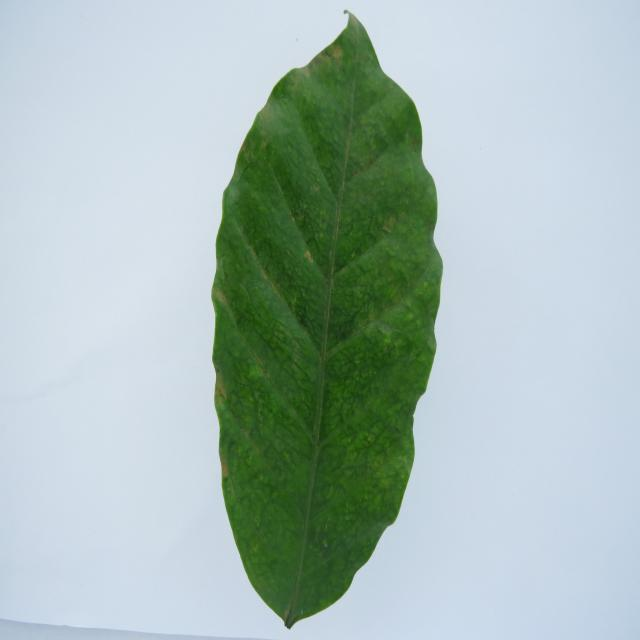DeficienciaNutricional-Hierro: (212, 15, 442, 627)
